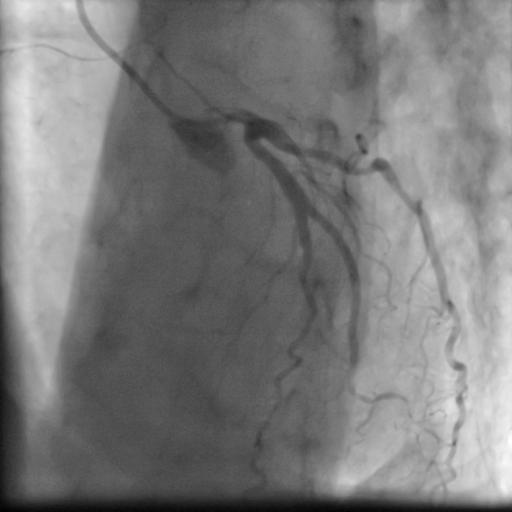Stenosis: (349, 154, 379, 184)
